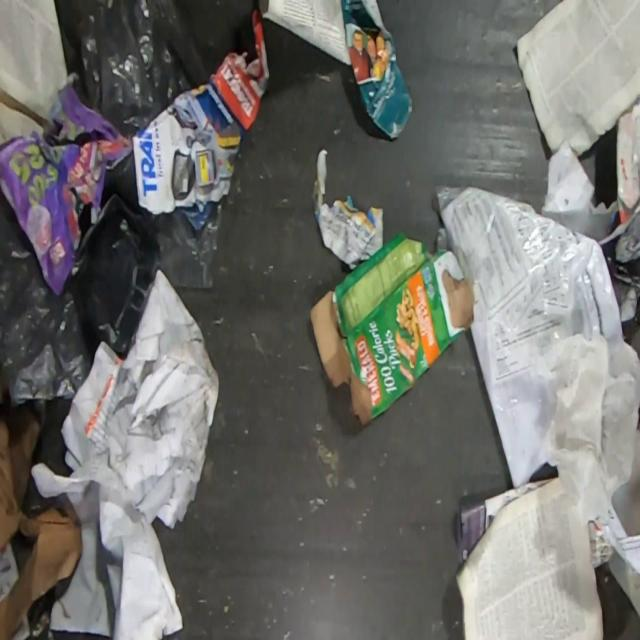cardboard: (306, 233, 475, 429), (0, 405, 83, 640), (614, 89, 640, 231)
rigid_plastic: (68, 194, 160, 358)
soft_plastic: (434, 184, 623, 487), (0, 185, 102, 403), (53, 0, 213, 137), (152, 206, 225, 289), (612, 202, 640, 295)
